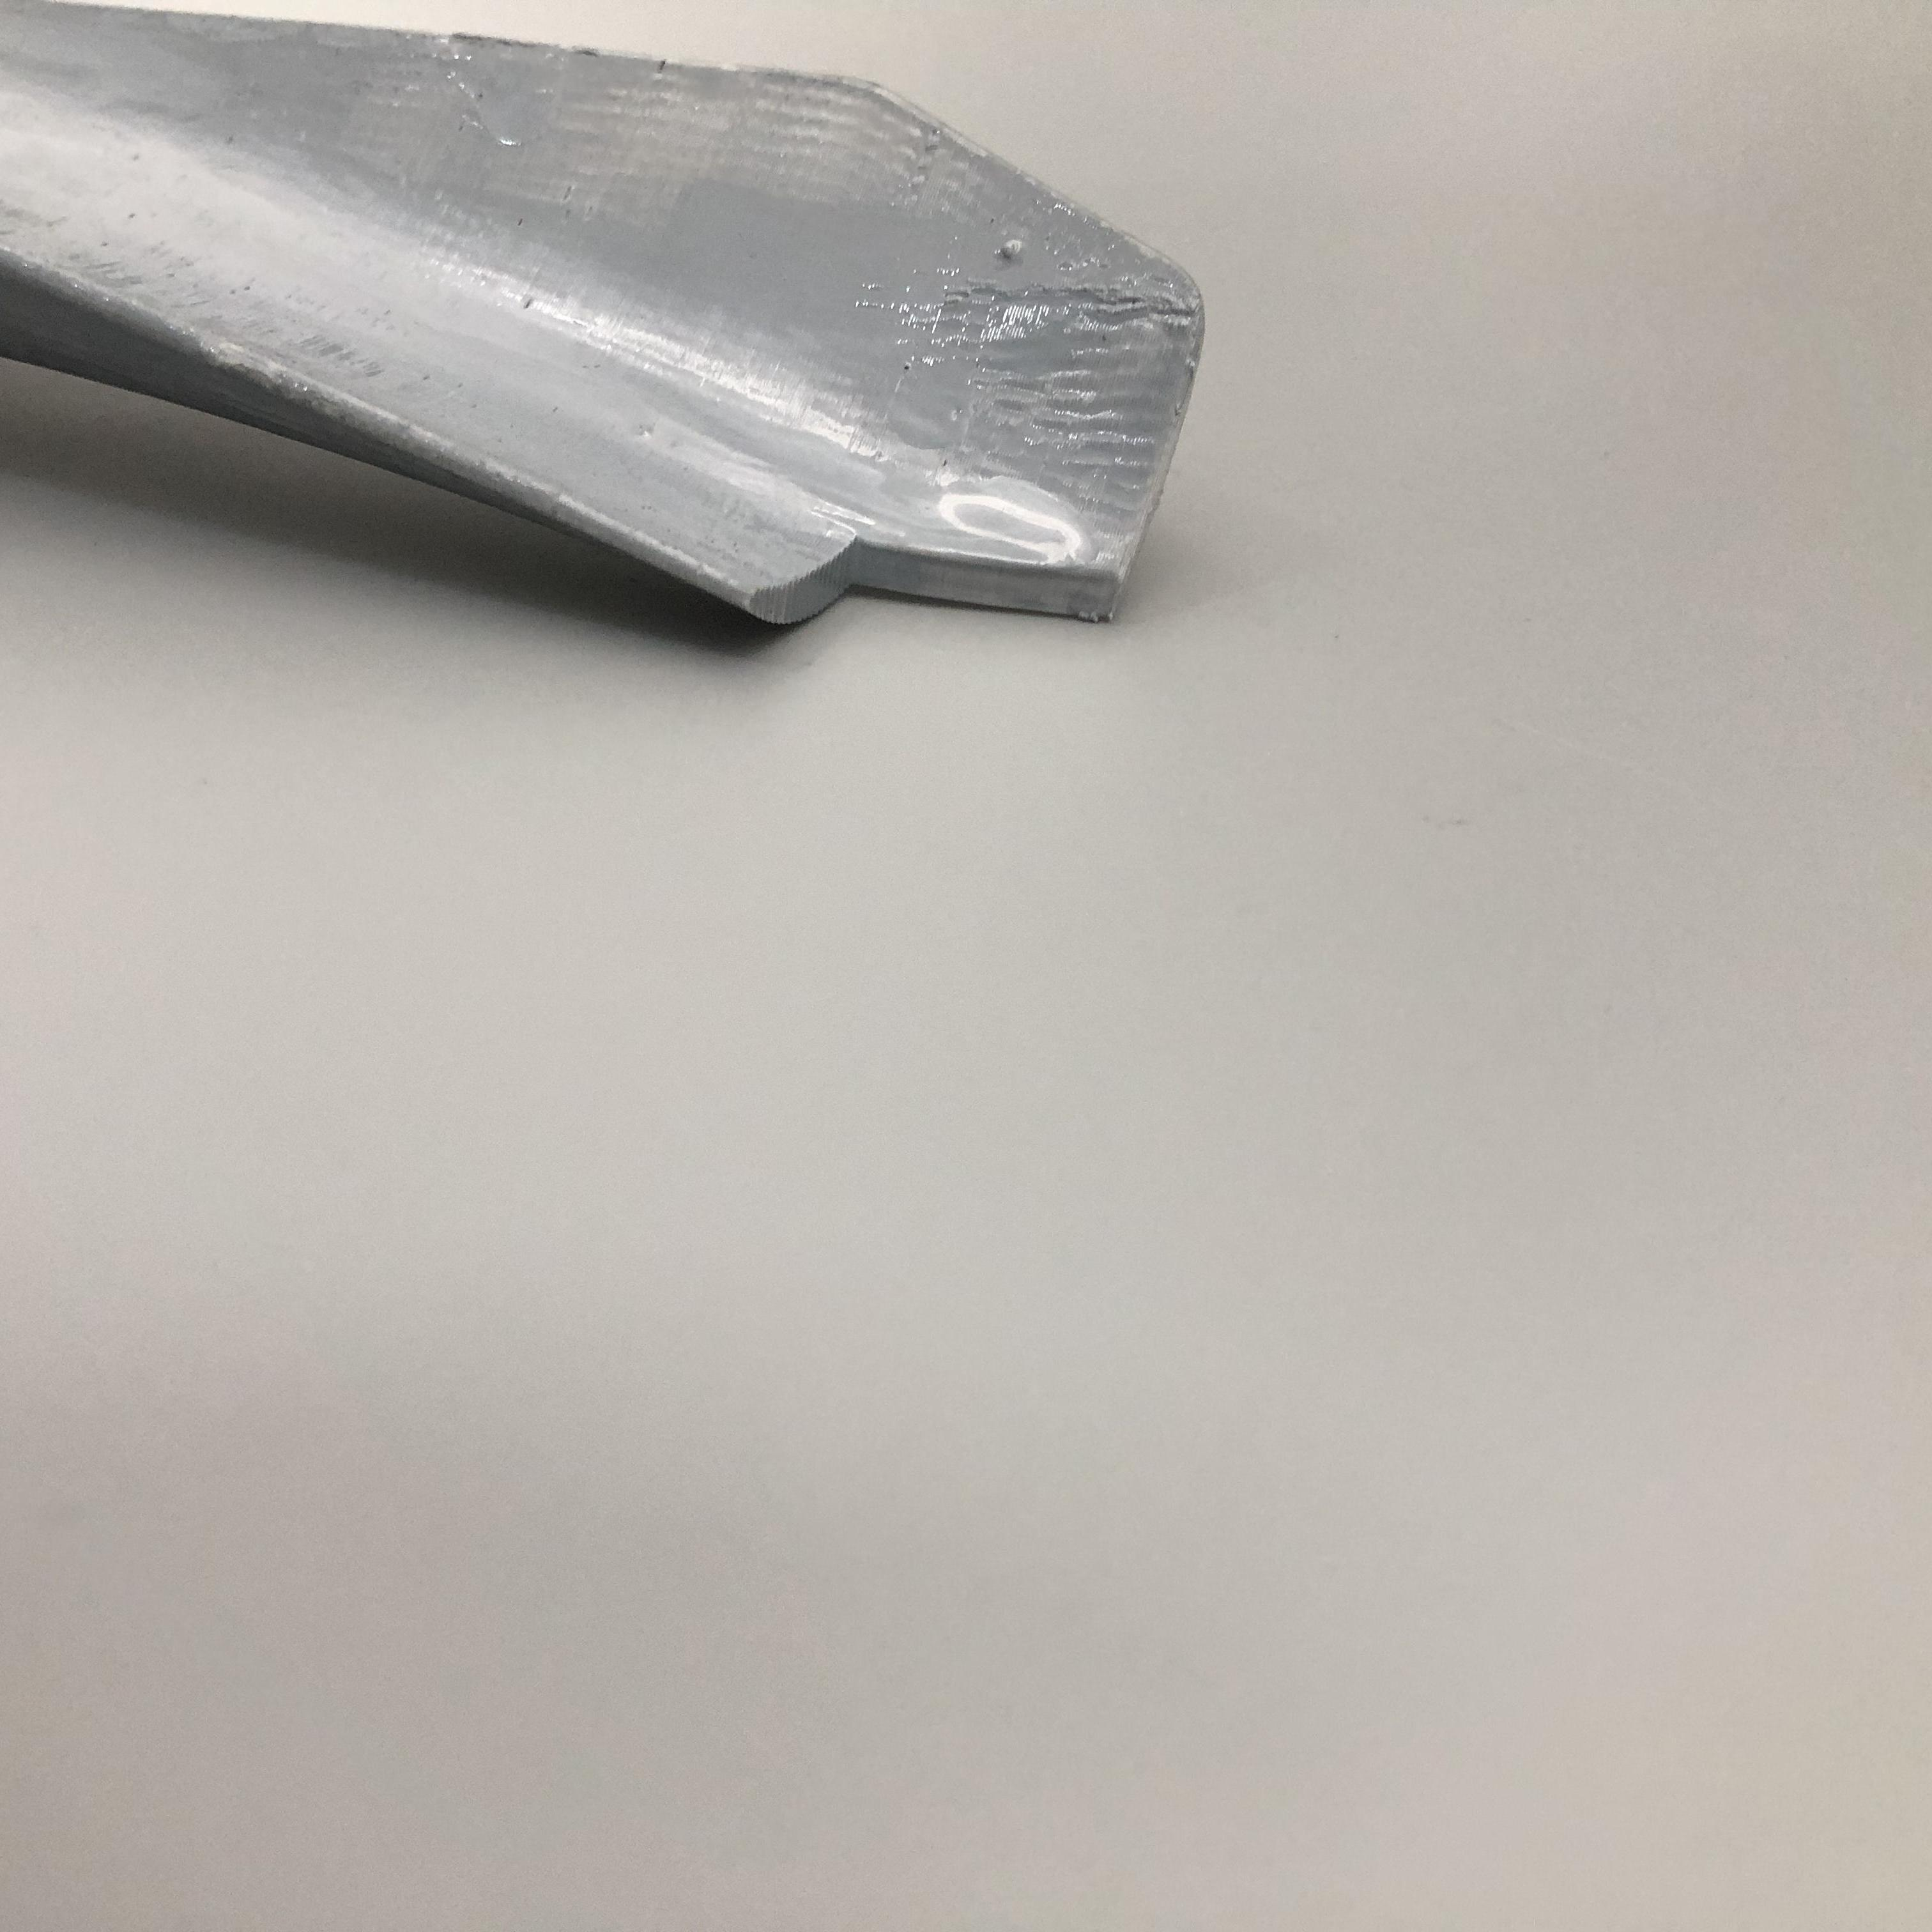fracture: (773, 527, 1097, 637)
